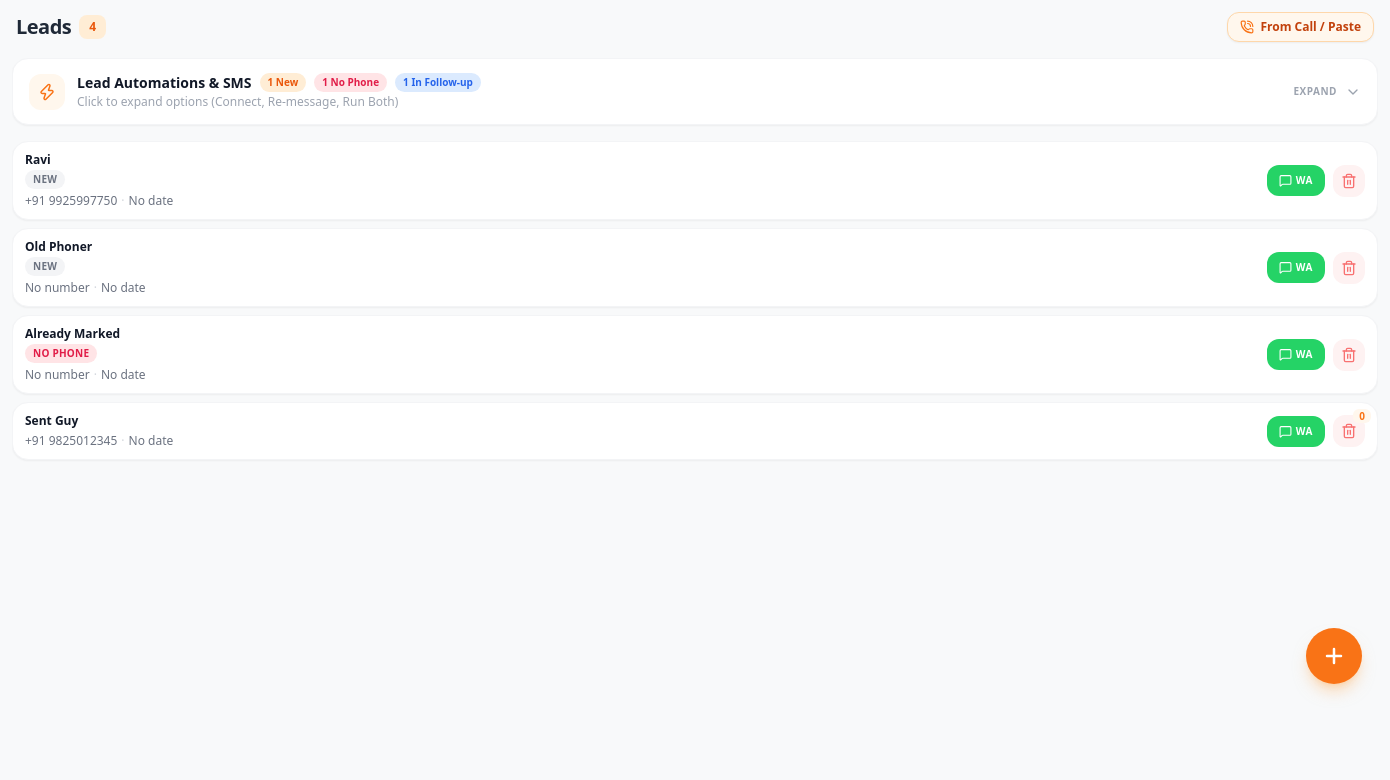
it: LeadsDashboard Component › properly categorizes untagged leads with and without phone numbers, displaying No Phone badge
This screenshot has width=1390, height=780.
Check: the text "1 New" is shown, box [260, 73, 306, 92]
Check: the text "1 No Phone" is shown, box [314, 73, 387, 92]
Click the button with aria-label "toggle lead automations" at point(47, 92), box [13, 59, 1377, 124]
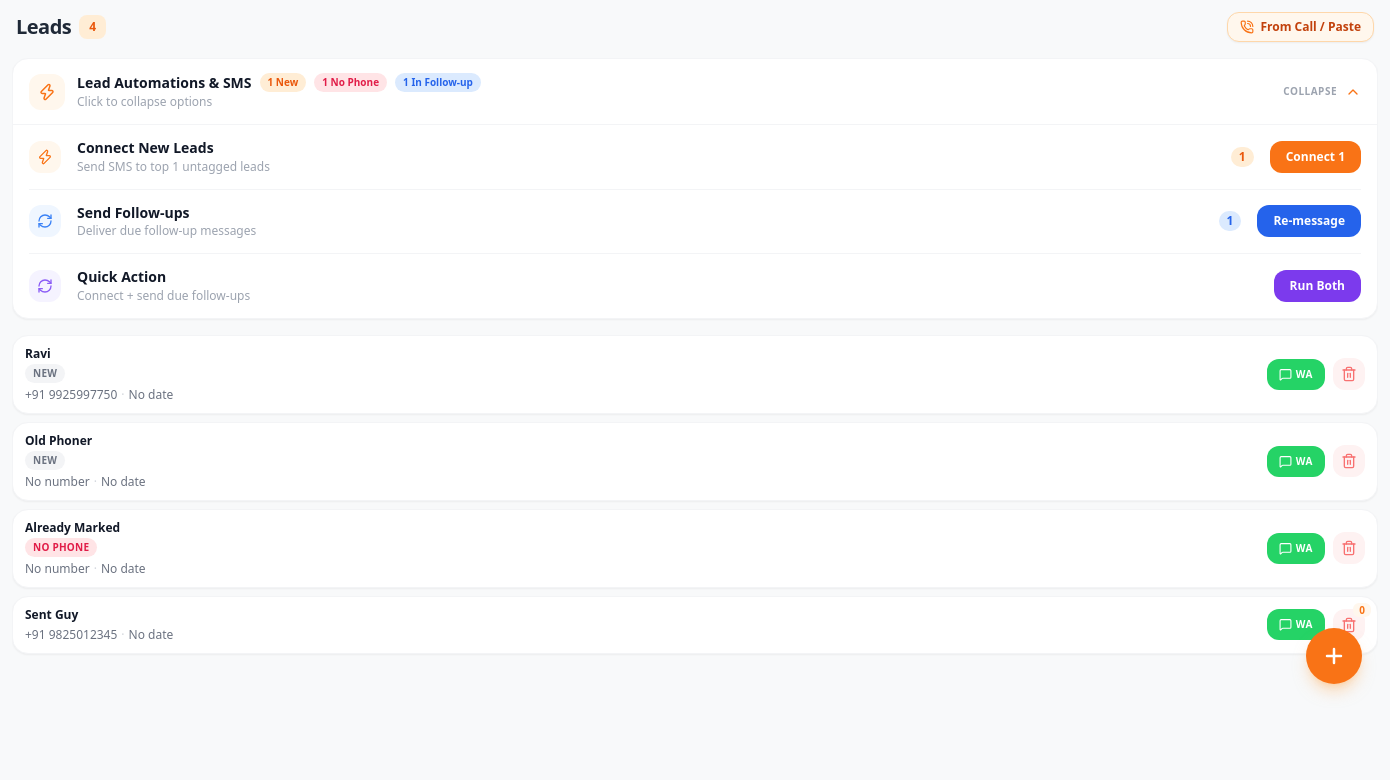
Check: the button "Connect 1" is shown, box [1270, 141, 1361, 173]
